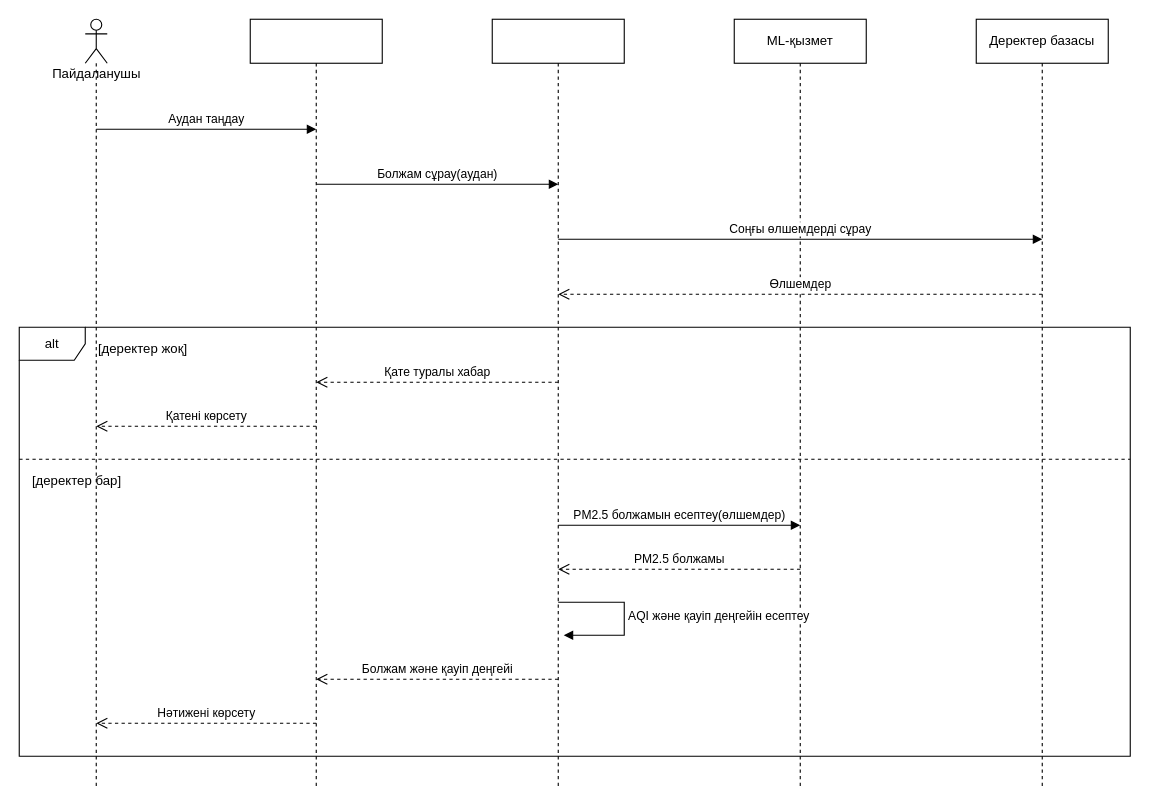
Some shapes in this 1151 by 809 pixel diagram are drawn without their labels. The shapes that lost their labels are listed below. From the top down, each one's box as (x1, y1, x2, y2) in pixels, then its label:
(249, 18, 382, 789): Веб-интерфейс
(491, 18, 624, 789): Веб-сервер (API)
